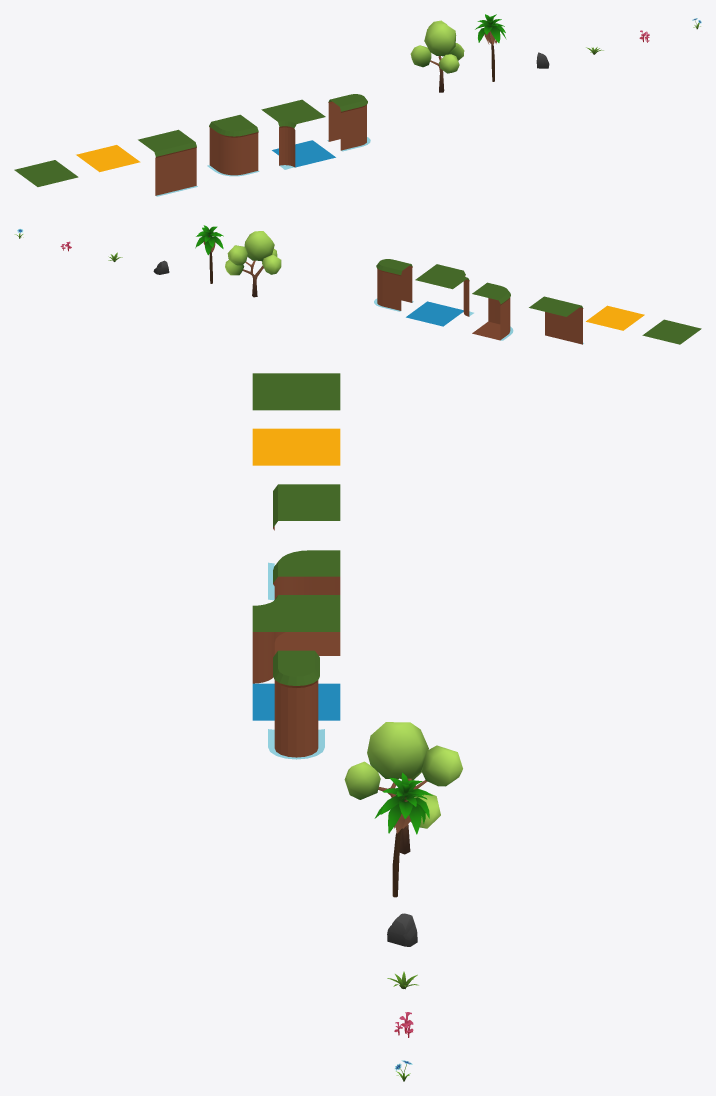
The model's file is terrain_tileset.glb.
3 views of the same model, one above another, from view 1: azimuth 30°, elevation 25°; view 2: azimuth 150°, elevation 25°; view 3: azimuth 270°, elevation 25° (orthographic). The views are drawn at different scales.
Parts seen in each view (by area): view 1: Tile_Cliff_Corner_Outer, Tile_Cliff_Straight, Tile_Cliff_End, Prop_Tree_Round, Tile_Cliff_Corner_Inner, Tile_Ground_Dirt, Tile_Ground_Grass, Tile_Water_Ocean, Prop_Tree_Palm; view 2: Prop_Tree_Round, Tile_Cliff_End, Tile_Cliff_Straight, Tile_Cliff_Corner_Outer, Tile_Cliff_Corner_Inner, Tile_Ground_Grass, Tile_Ground_Dirt, Tile_Water_Ocean, Prop_Tree_Palm; view 3: Prop_Tree_Round, Tile_Cliff_End, Tile_Cliff_Corner_Outer, Tile_Cliff_Corner_Inner, Tile_Ground_Dirt, Tile_Ground_Grass, Tile_Cliff_Straight, Prop_Tree_Palm, Tile_Water_Ocean.
Part boxes in pixels (box(x1,y1,x2,y2)): Tile_Cliff_Corner_Outer: box(207, 114, 259, 176); Tile_Cliff_Straight: box(138, 129, 197, 196); Tile_Cliff_End: box(327, 94, 370, 151); Prop_Tree_Round: box(410, 20, 464, 92); Tile_Cliff_Corner_Inner: box(261, 99, 325, 169); Tile_Ground_Dirt: box(76, 145, 140, 172); Tile_Ground_Grass: box(14, 160, 78, 186); Tile_Water_Ocean: box(272, 140, 335, 167); Prop_Tree_Palm: box(475, 14, 506, 81); Prop_Tree_Round: box(225, 231, 281, 297); Tile_Cliff_End: box(374, 259, 413, 311); Tile_Cliff_Straight: box(529, 296, 583, 344); Tile_Cliff_Corner_Outer: box(472, 282, 513, 340); Tile_Cliff_Corner_Inner: box(415, 264, 473, 316); Tile_Ground_Grass: box(642, 319, 701, 344); Tile_Ground_Dirt: box(586, 305, 644, 330); Tile_Water_Ocean: box(406, 301, 463, 326); Prop_Tree_Palm: box(195, 225, 223, 283); Prop_Tree_Round: box(344, 722, 462, 854); Tile_Cliff_End: box(268, 650, 324, 759); Tile_Cliff_Corner_Outer: box(273, 550, 340, 655); Tile_Cliff_Corner_Inner: box(252, 595, 340, 683); Tile_Ground_Dirt: box(252, 428, 340, 465); Tile_Ground_Grass: box(252, 373, 340, 410); Tile_Cliff_Straight: box(268, 484, 340, 600); Prop_Tree_Palm: box(374, 772, 432, 897); Tile_Water_Ocean: box(252, 683, 340, 720).
Size of the model in its own units: 34.25 by 3.2 by 4.81.
Materials: 1 (1 with a texture image).
